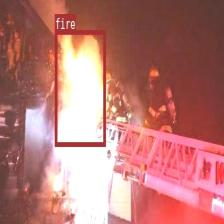fire: (55, 29, 106, 146)
